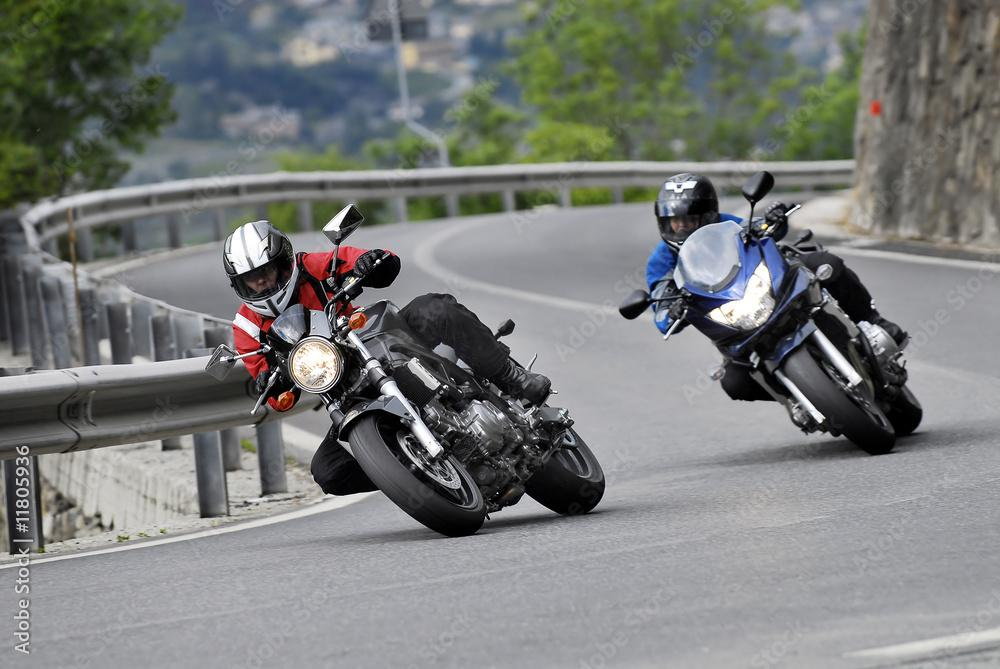helmet: (222, 218, 302, 321), (653, 171, 720, 265)
